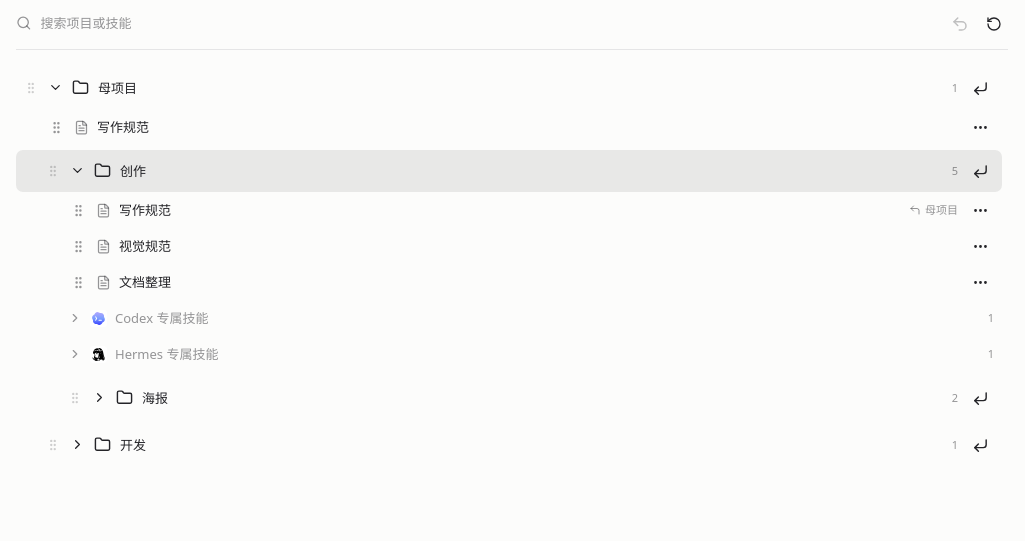
Scenario: ProjectSkillTree › shows common skills immediately and keeps native groups collapsed until expanded
Click the button "Codex 专属技能 1": click(162, 318) left=16, top=300, right=1002, bottom=336
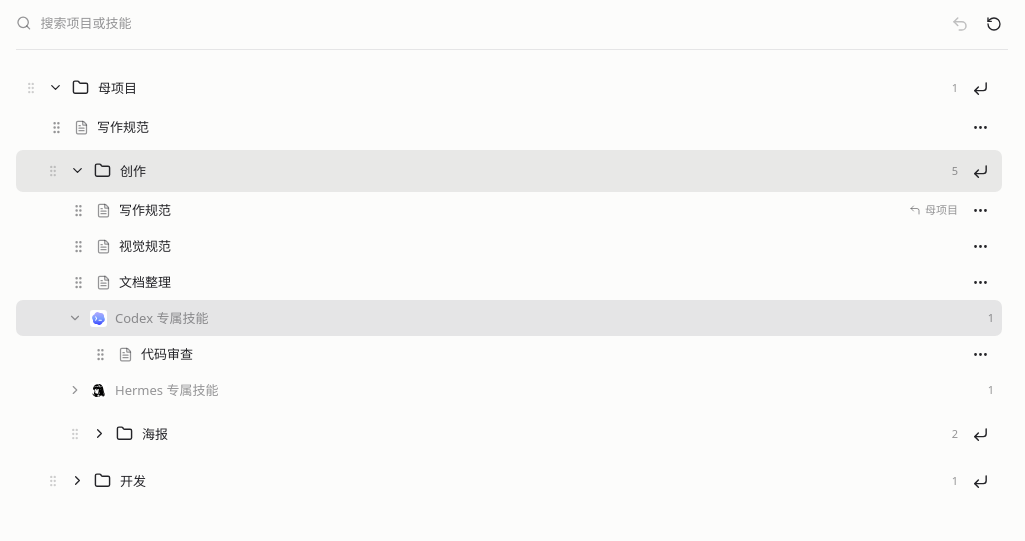
Click the button "Hermes 专属技能 1": click(167, 390) left=16, top=372, right=1002, bottom=408
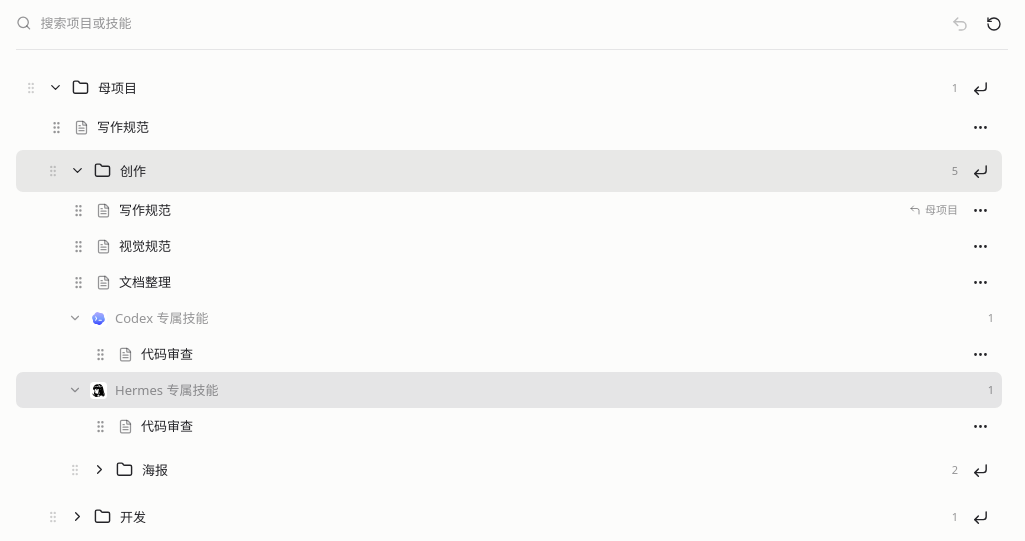
Now the number of buttons named "代码审查 的操作" is 2, box left=966, top=340, right=994, bottom=368; left=966, top=412, right=994, bottom=440
